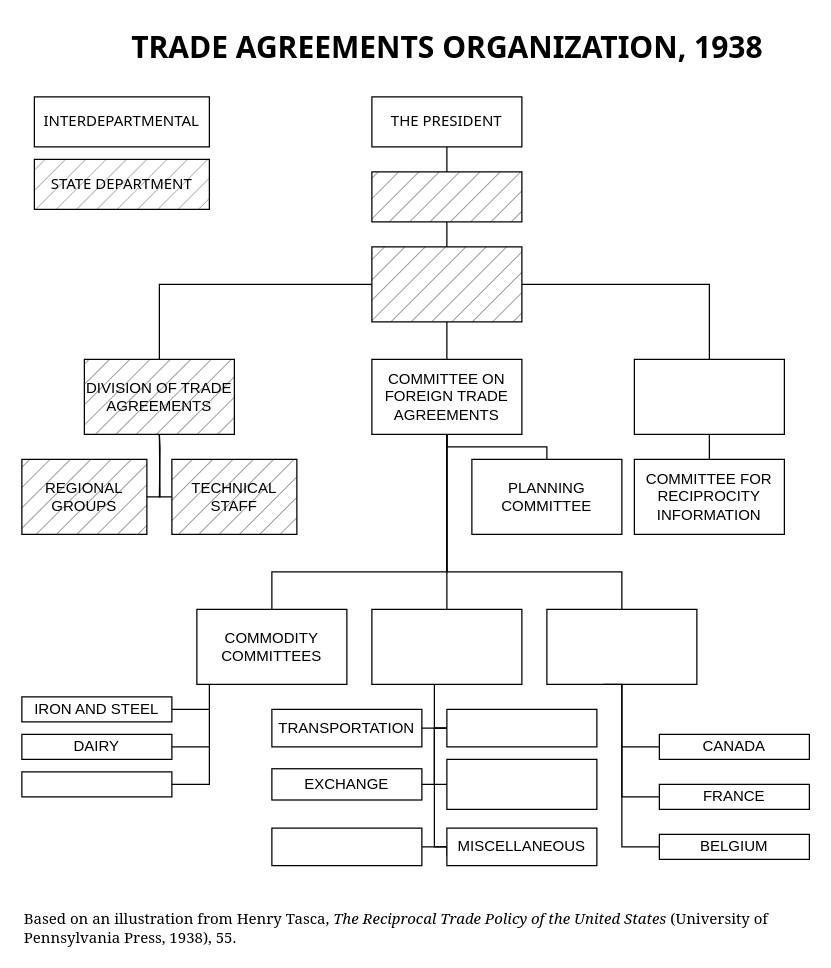
Some shapes in this 831 by 968 pixel diagram are drawn without their labels. Here are the shapes that lost their labels. From the top down, the box of each, then its label:
(371, 171, 522, 222): SECRETARY OF STATE
(371, 246, 522, 322): ASSISTANT SECRETARY OF STATE
(633, 358, 784, 434): EXECUTIVE COMMITTEE ON COMMERCIAL POLICY
(371, 608, 522, 684): SPECIAL COMMITTEES
(546, 608, 697, 684): COUNTRY COMMITTEES
(446, 708, 597, 747): DISCRIMINATION
(21, 771, 172, 797): MACHINERY
(446, 758, 597, 809): BRANCH FACTORIES
(271, 827, 422, 866): QUOTAS
